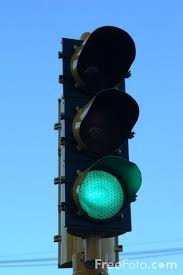green: (54, 23, 143, 244), (72, 34, 137, 231), (80, 43, 129, 219)
